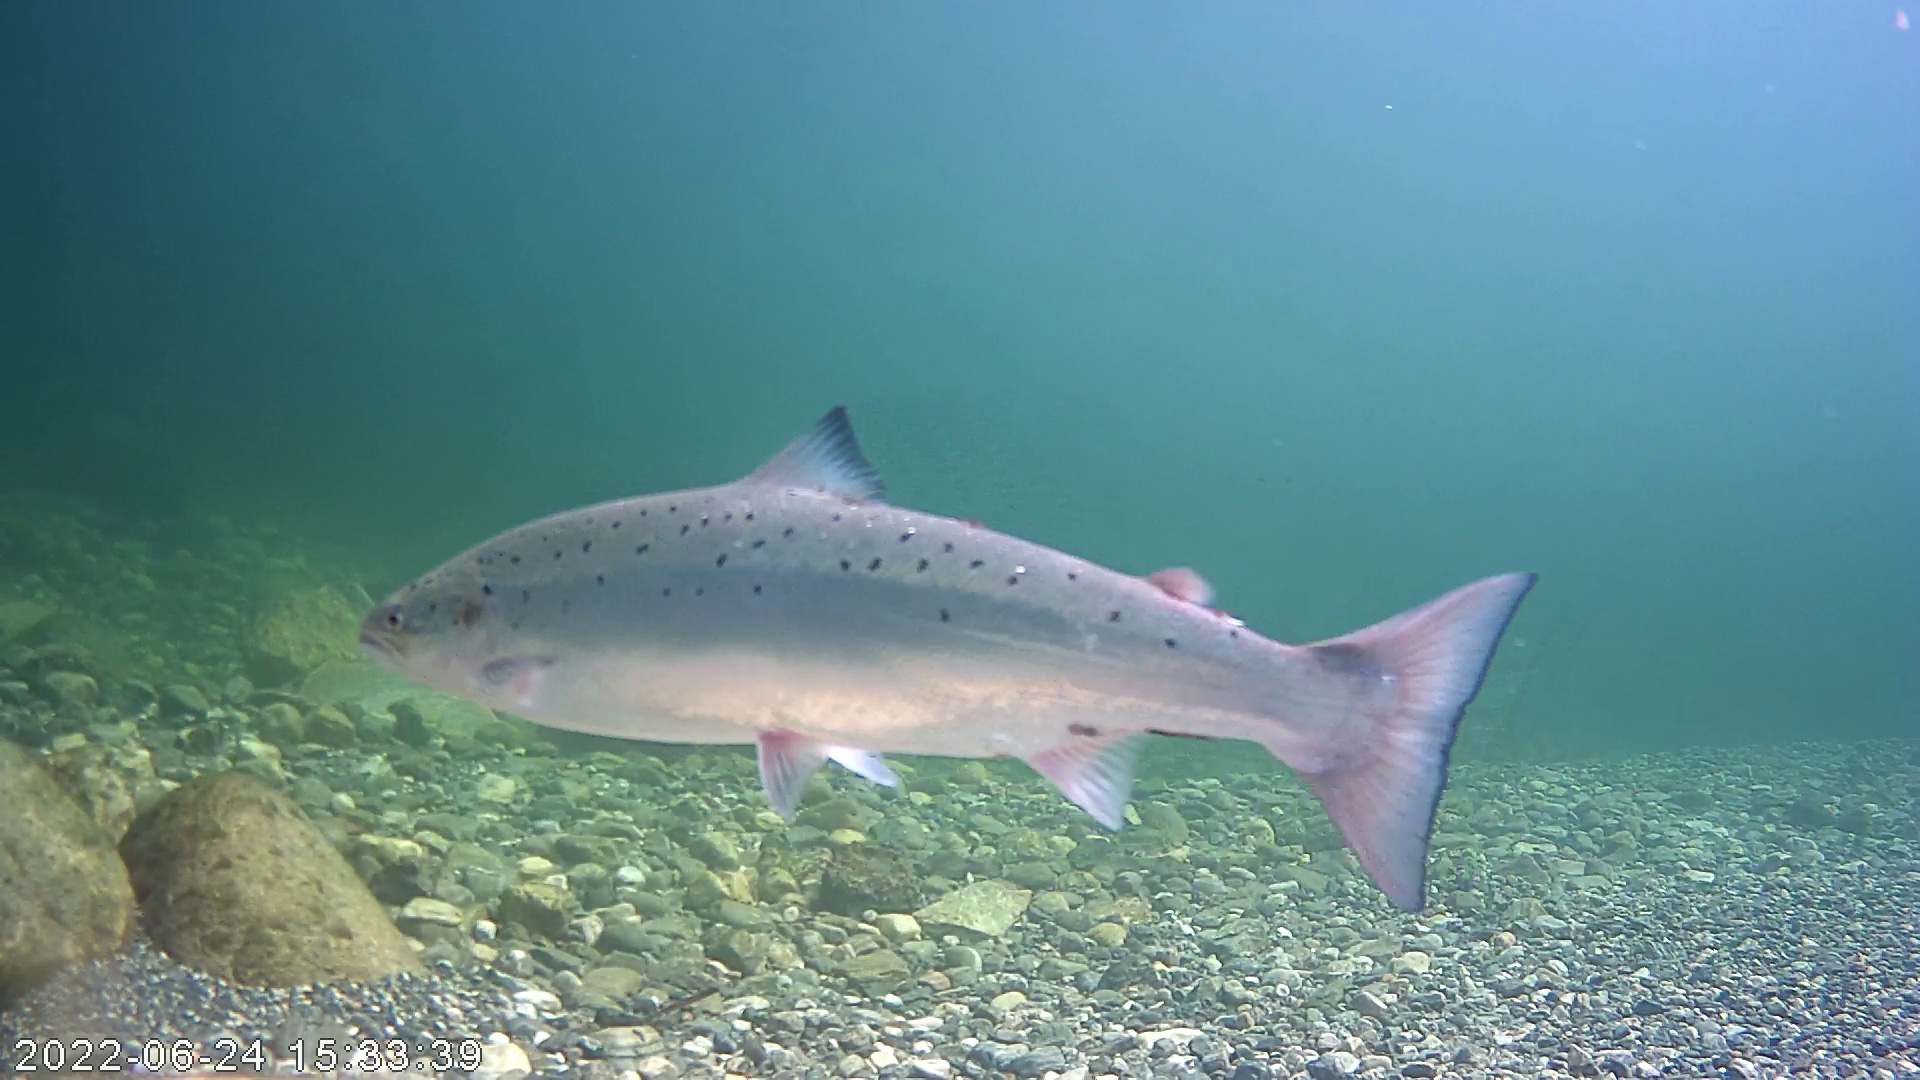salmon: (353, 402, 1538, 918)
